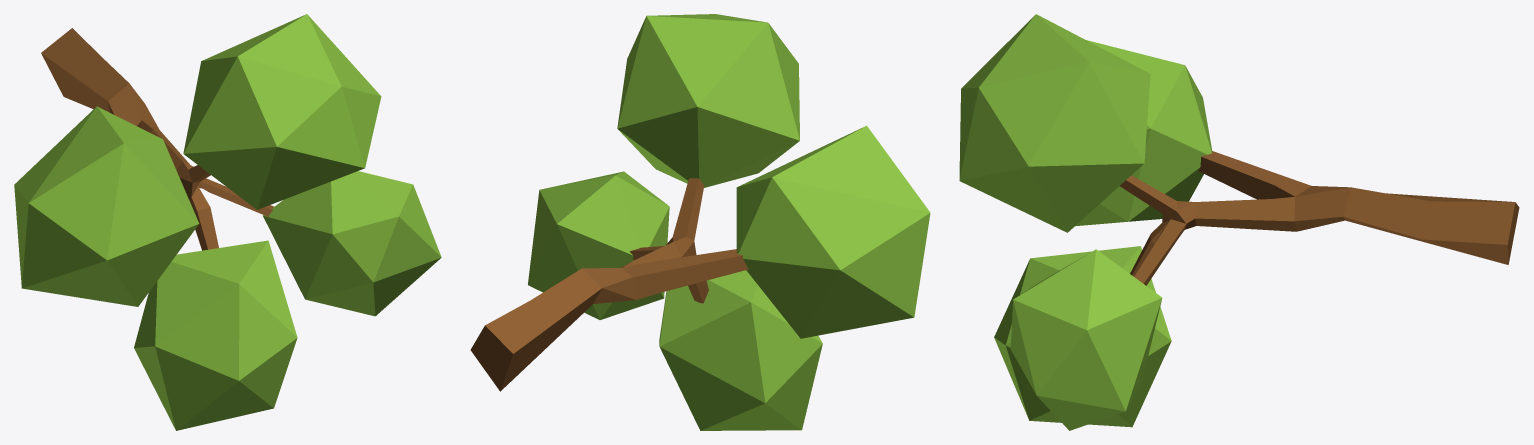
Rendered from Pohon1.fbx.
The picture shows the model from 3 angles, left to right: view 1: azimuth 30°, elevation 25°; view 2: azimuth 150°, elevation 25°; view 3: azimuth 270°, elevation 25°; orthographic projection. The views are drawn at different scales.
Parts seen in each view (by area): view 1: tree_1c.002; view 2: tree_1c.002; view 3: tree_1c.002.
Part boxes in pixels (box(x1,y1,x2,y2)): tree_1c.002: box(14, 14, 441, 430); tree_1c.002: box(470, 14, 930, 430); tree_1c.002: box(959, 14, 1519, 430).
Bounding box in the file's own units: 556 × 514 × 639.
